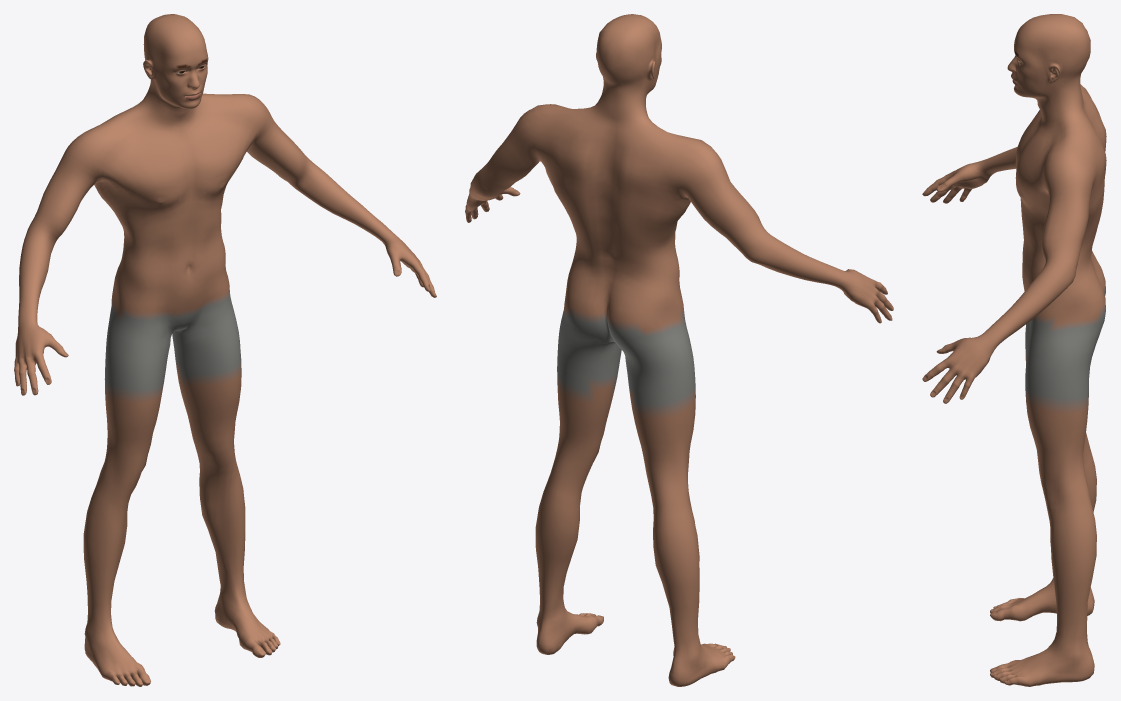
File: body_a.glb
3 views of the same model, side by side, from view 1: azimuth 30°, elevation 25°; view 2: azimuth 150°, elevation 25°; view 3: azimuth 270°, elevation 25° (orthographic).
Visible parts, largest first — view 1: BodyA; view 2: BodyA; view 3: BodyA.
Part boxes in pixels (x1=…): BodyA: x1=14, y1=14, x2=436, y2=686; BodyA: x1=465, y1=14, x2=893, y2=686; BodyA: x1=922, y1=14, x2=1106, y2=686.
Size of the model in its own units: 1.27 by 1.85 by 0.4895.
